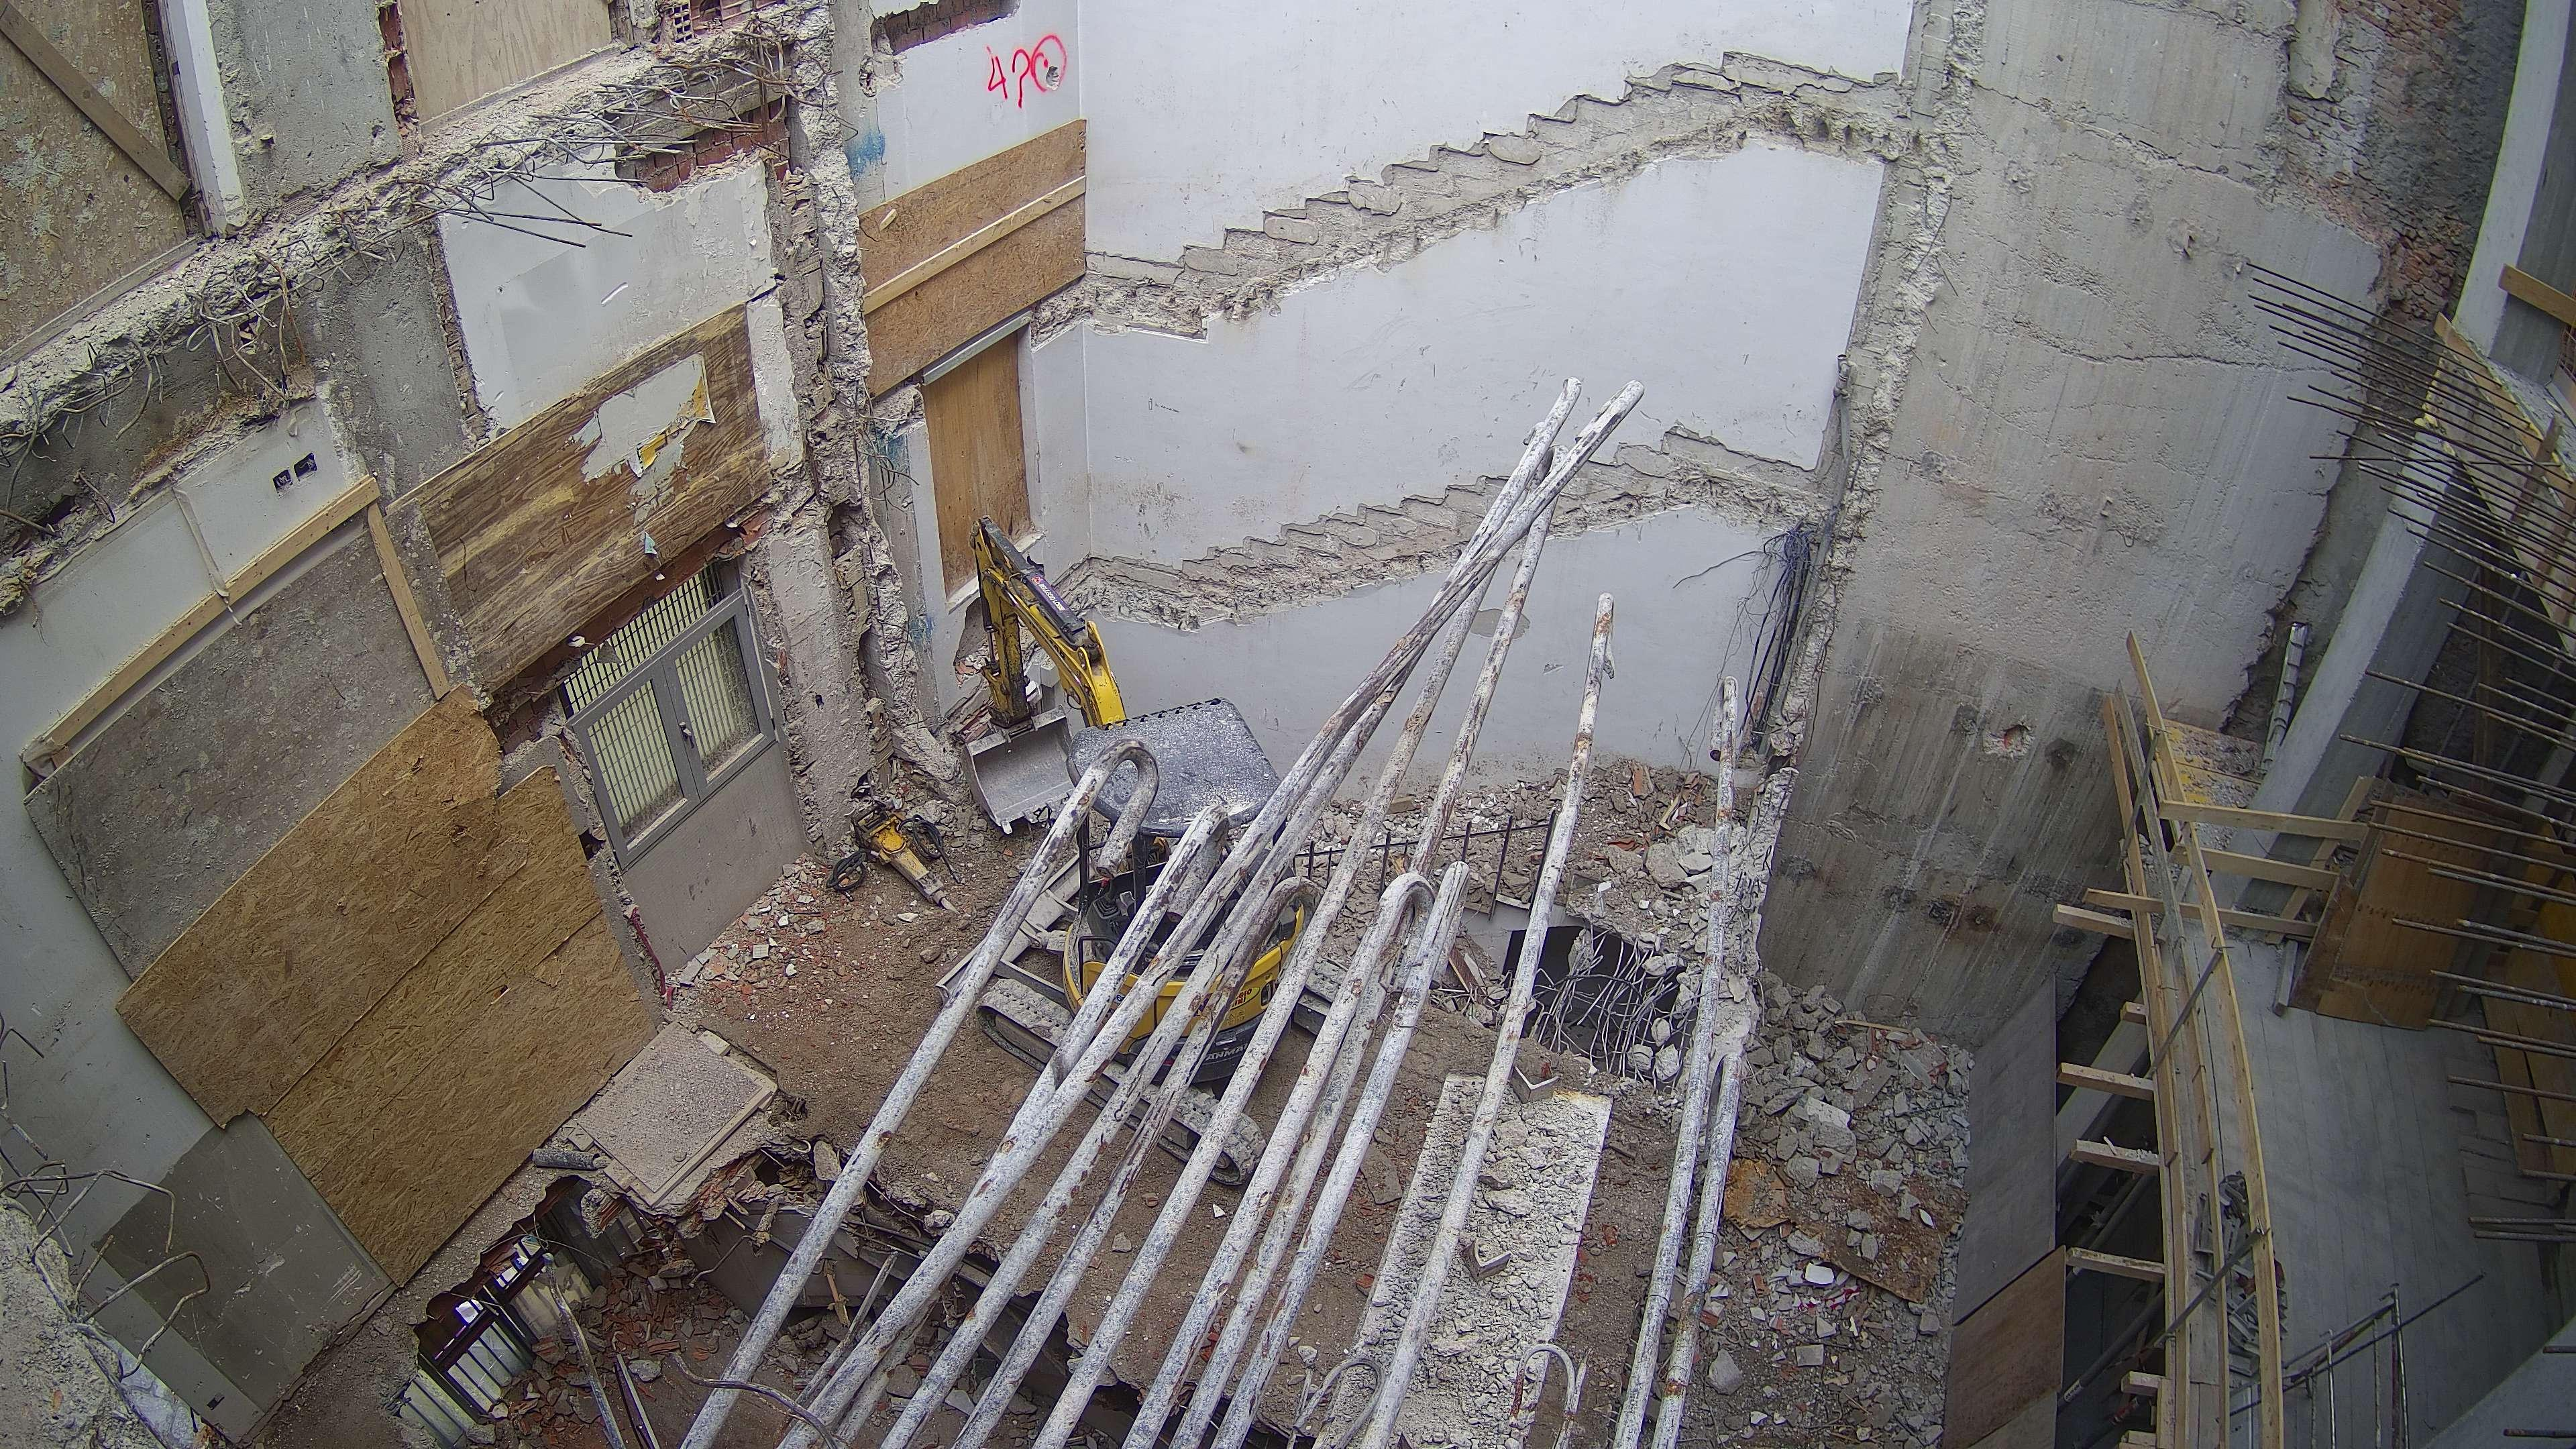excavator: (936, 515, 1345, 1185)
